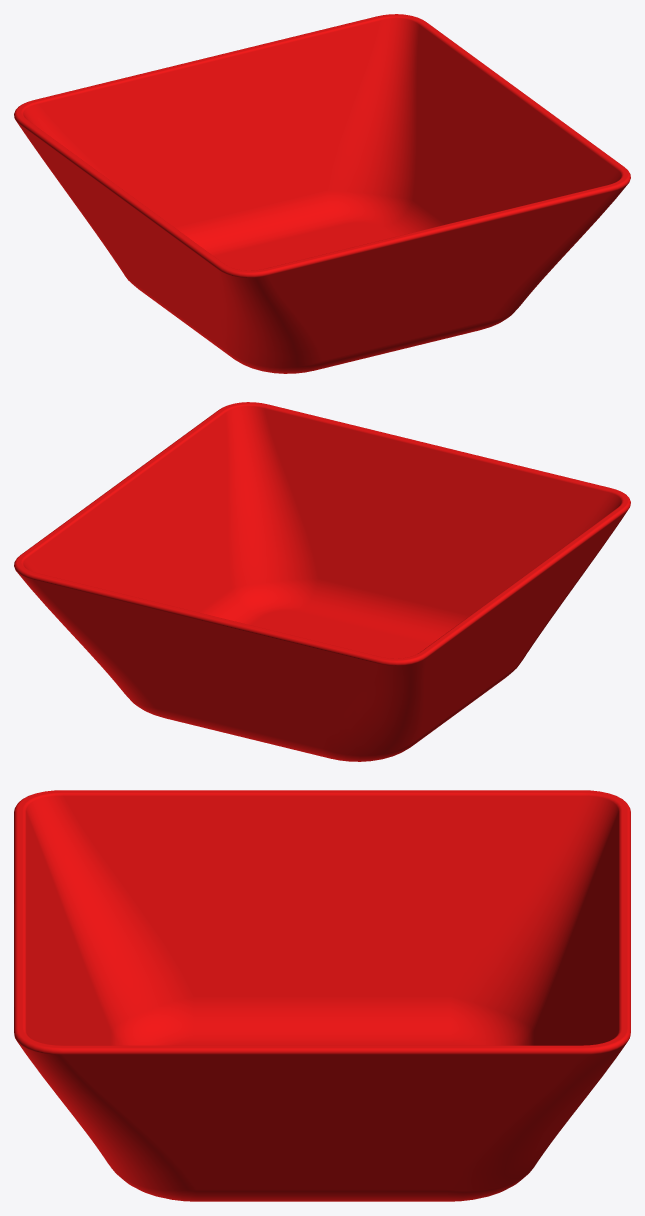
The model's file is bowl.dae.
3 views of the same model, one above another, from view 1: azimuth 30°, elevation 25°; view 2: azimuth 150°, elevation 25°; view 3: azimuth 270°, elevation 25° (orthographic). The views are drawn at different scales.
Visible parts, largest first — view 1: _3DGeom_1; view 2: _3DGeom_1; view 3: _3DGeom_1.
Boxes of the visible parts, x1=… form: _3DGeom_1: x1=14, y1=14, x2=630, y2=373; _3DGeom_1: x1=14, y1=402, x2=630, y2=761; _3DGeom_1: x1=14, y1=790, x2=630, y2=1201.
Bounding box in the file's own units: 0.1501 × 0.1501 × 0.055.
